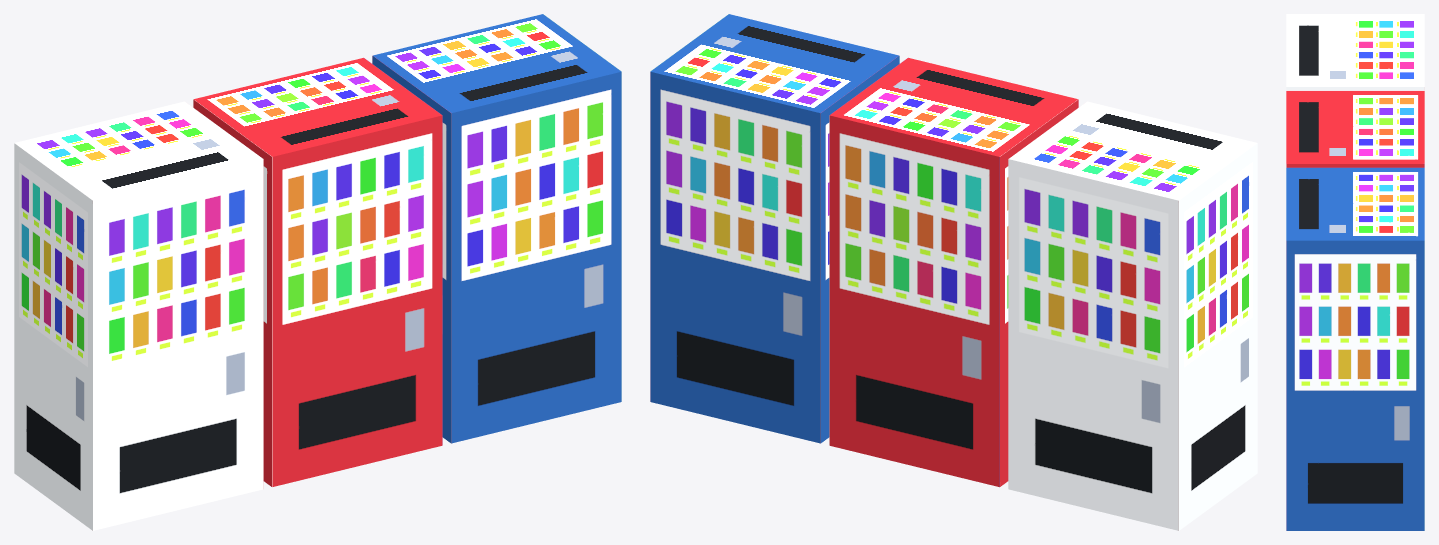
File: vending_row.glb
3 renders of one model, left to right at view 1: azimuth 30°, elevation 25°; view 2: azimuth 150°, elevation 25°; view 3: azimuth 270°, elevation 25°, orthographic. The views are drawn at different scales.
Parts seen in each view (by area): view 1: vending; view 2: vending; view 3: vending.
Part boxes in pixels (left/top/right/bottom): vending: left=14, top=14, right=621, bottom=530; vending: left=650, top=14, right=1257, bottom=530; vending: left=1286, top=14, right=1424, bottom=530.
Bounding box in the file's own units: 3.1 × 1.85 × 0.8.
Materials: 3 (3 with a texture image).
